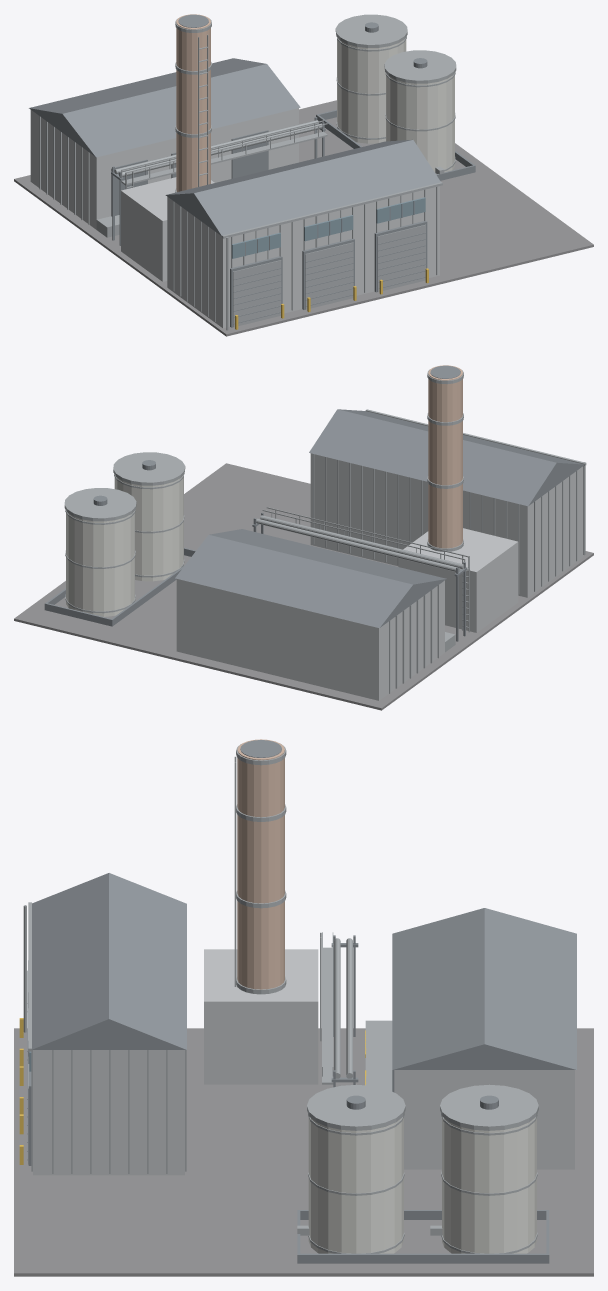
Rendered from industrial_4x4.glb.
3 views of the same model, one above another, from view 1: azimuth 30°, elevation 25°; view 2: azimuth 150°, elevation 25°; view 3: azimuth 270°, elevation 25° (orthographic). The views are drawn at different scales.
Visible parts, largest first — view 1: industrial_4x4_yard; view 2: industrial_4x4_yard; view 3: industrial_4x4_yard.
Part boxes in pixels (box(x1,y1,x2,y2)): industrial_4x4_yard: box(14, 14, 593, 336); industrial_4x4_yard: box(14, 365, 593, 710); industrial_4x4_yard: box(14, 739, 593, 1276).
Size of the model in its own units: 30.5 by 18.64 by 30.5.
